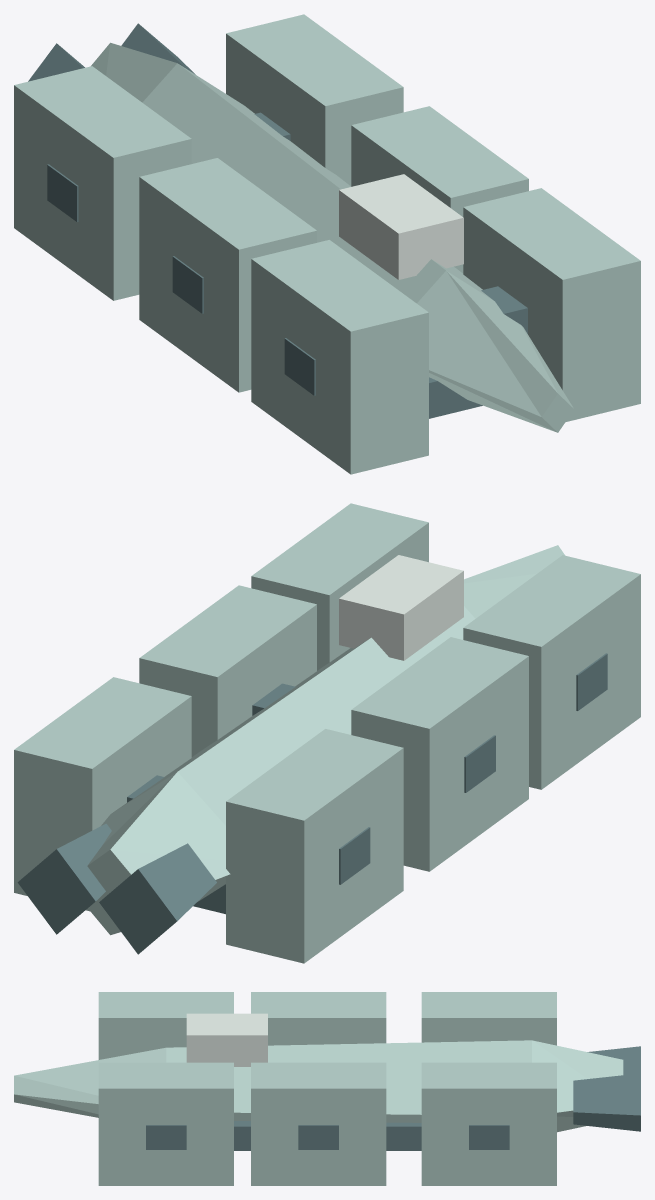
3 renders of one model, top to bottom at view 1: azimuth 30°, elevation 25°; view 2: azimuth 150°, elevation 25°; view 3: azimuth 270°, elevation 25°, orthographic. The views are drawn at different scales.
Size of the model in its own units: 3.78 by 2.05 by 10.28.
